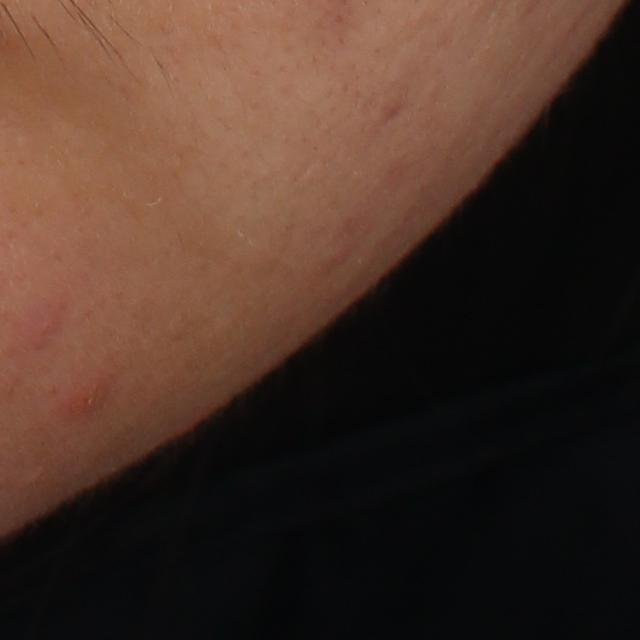papule: (59, 376, 114, 421), (25, 297, 65, 343)
